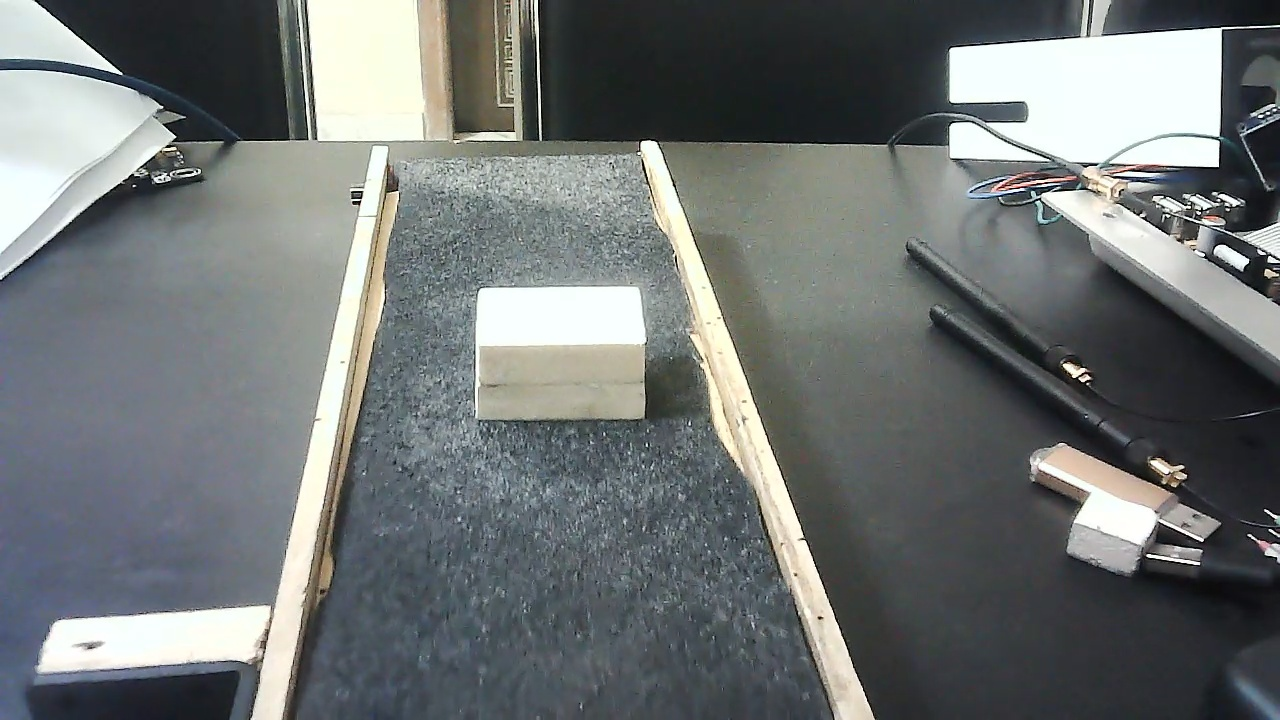BIG: (477, 273, 643, 439)
